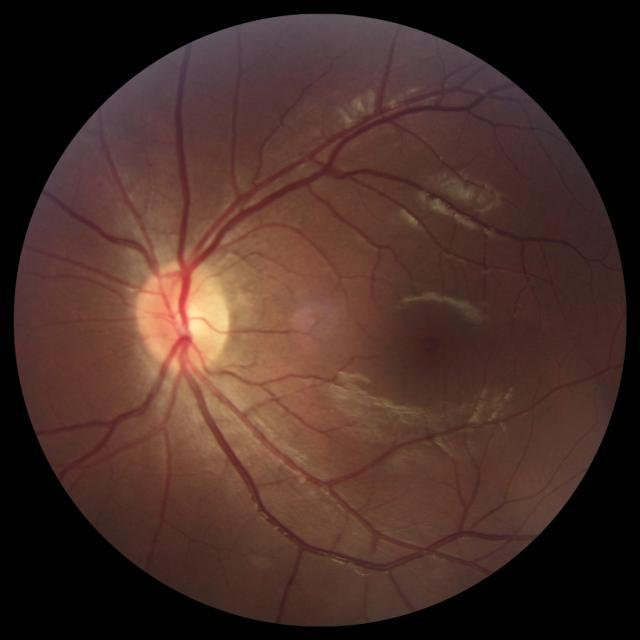OC: (169, 303, 207, 340)
OD: (135, 258, 229, 370)
